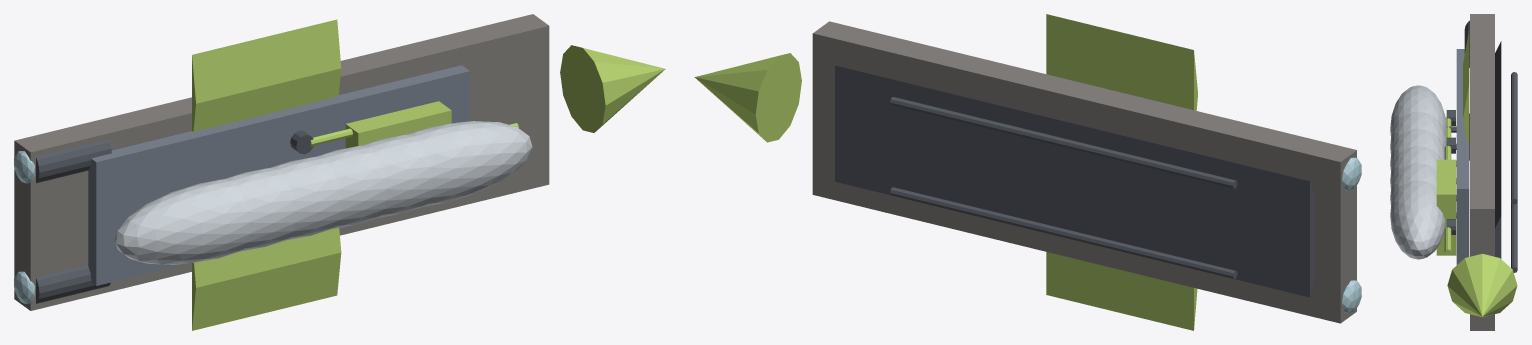
File: SWS-010_aether_titan_barge.glb
3 renders of one model, left to right at view 1: azimuth 30°, elevation 25°; view 2: azimuth 150°, elevation 25°; view 3: azimuth 270°, elevation 25°, orthographic. The views are drawn at different scales.
Visible parts, largest first — view 1: main_hull, upper_deck, wing_1, wing_-1, aether_lift_bladder_1, aether_lift_bladder_6, aether_nose, aether_lift_bladder_2, aether_lift_bladder_5, aether_lift_bladder_4, aether_lift_bladder_3, bridge (+4 smaller); view 2: keel, main_hull, wing_1, wing_-1, aether_nose, landing_skid_-1, landing_skid_1, engine_glow_-1, engine_glow_1; view 3: main_hull, aether_lift_bladder_6, aether_nose, upper_deck, bridge, keel, aether_lift_bladder_1, aether_lift_bladder_2, aether_lift_bladder_3, landing_skid_1, aether_lift_bladder_4, aether_lift_bladder_5 (+9 smaller).
Boxes of the visible parts, x1,y1,x2,y2 form: main_hull: (14,14,549,310); upper_deck: (88,65,469,285); wing_1: (192,19,341,131); wing_-1: (192,228,341,330); aether_lift_bladder_1: (114,179,249,264); aether_lift_bladder_6: (408,121,532,206); aether_nose: (560,45,665,132); aether_lift_bladder_2: (225,167,295,251); aether_lift_bladder_5: (361,134,432,217); aether_lift_bladder_4: (316,145,386,228); aether_lift_bladder_3: (270,156,340,239); bridge: (345,101,451,148); keel: (835,65,1314,297); main_hull: (812,21,1356,323); wing_1: (1046,14,1197,110); wing_-1: (1046,252,1197,330); aether_nose: (694,53,801,142); landing_skid_-1: (890,187,1237,278); landing_skid_1: (890,97,1237,188); engine_glow_-1: (1342,280,1361,313); engine_glow_1: (1342,157,1361,190); main_hull: (1470,14,1494,330); aether_lift_bladder_6: (1390,180,1445,259); aether_nose: (1447,253,1517,317); upper_deck: (1456,49,1469,264); bridge: (1436,159,1456,255); keel: (1495,41,1501,258); aether_lift_bladder_1: (1390,85,1446,136); aether_lift_bladder_2: (1390,111,1446,153); aether_lift_bladder_3: (1390,129,1444,170); landing_skid_1: (1511,72,1517,204); aether_lift_bladder_4: (1390,146,1441,187); aether_lift_bladder_5: (1390,163,1436,205).
Size of the model in its own units: 163 by 66.12 by 35.99.
